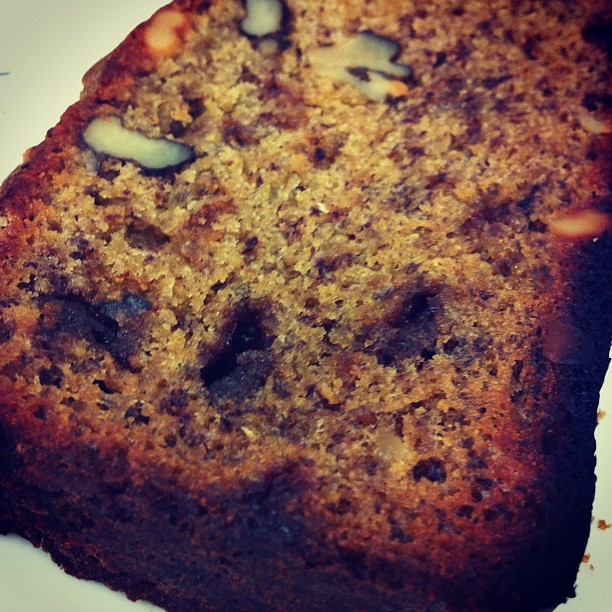slice of bread: (1, 7, 596, 606)
